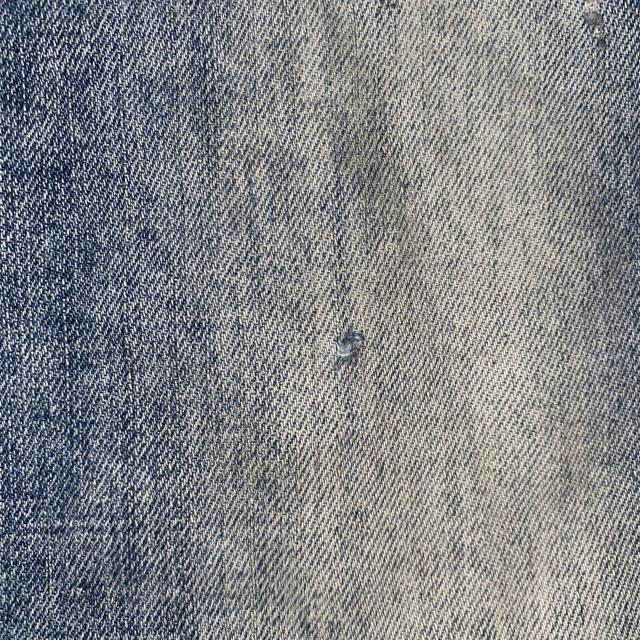Knot: (332, 332, 368, 368), (580, 8, 604, 31)
